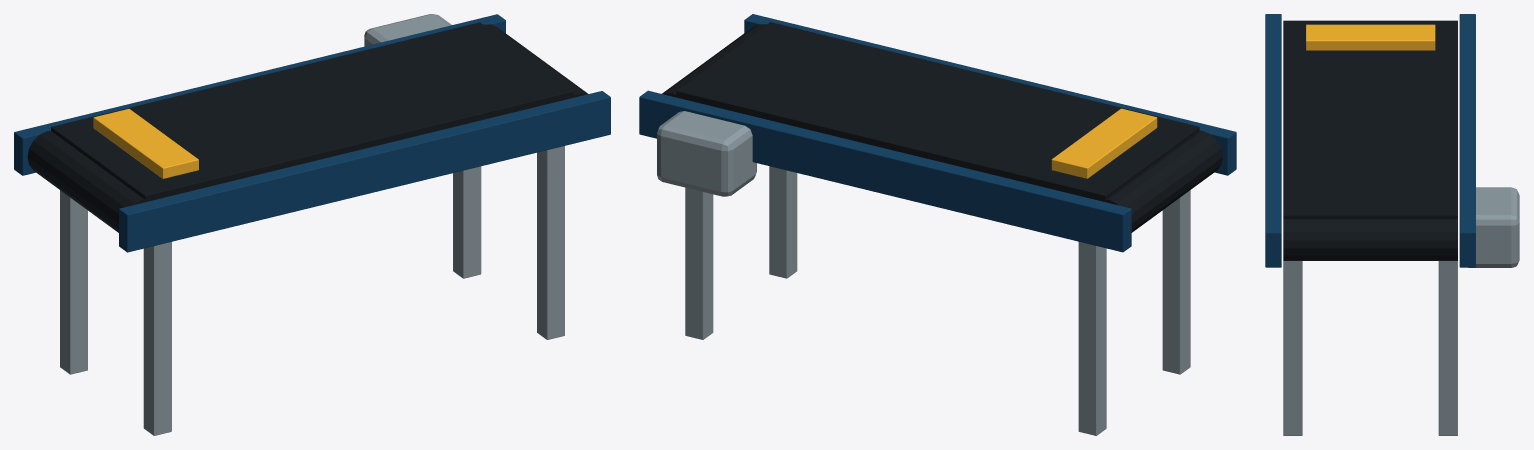
3 views of the same model, side by side, from view 1: azimuth 30°, elevation 25°; view 2: azimuth 150°, elevation 25°; view 3: azimuth 270°, elevation 25° (orthographic). The views are drawn at different scales.
Visible parts, largest first — view 1: BELT_Upper, FRAME_Rail, LEG, LEG.002, ROLLER_End, LEG.001, BELT_Carrier, FRAME_Rail.001, LEG.003, DRIVE_Motor, ROLLER_End.001; view 2: BELT_Upper, FRAME_Rail.001, DRIVE_Motor, LEG.001, LEG, ROLLER_End, LEG.003, BELT_Carrier, FRAME_Rail, LEG.002, ROLLER_End.001; view 3: BELT_Upper, ROLLER_End.001, FRAME_Rail, FRAME_Rail.001, DRIVE_Motor, BELT_Carrier, LEG.002, LEG.003, ROLLER_End.
Part boxes in pixels (x1,y1,x2,y2): BELT_Upper: [51, 22, 573, 201]; FRAME_Rail: [119, 91, 610, 252]; LEG: [143, 242, 171, 435]; LEG.002: [537, 146, 564, 339]; ROLLER_End: [27, 130, 149, 232]; LEG.001: [60, 190, 87, 374]; BELT_Carrier: [93, 109, 198, 178]; FRAME_Rail.001: [14, 14, 505, 175]; LEG.003: [453, 166, 481, 278]; DRIVE_Motor: [364, 14, 451, 46]; ROLLER_End.001: [483, 24, 588, 98]; BELT_Upper: [676, 22, 1199, 201]; FRAME_Rail.001: [639, 90, 1131, 252]; DRIVE_Motor: [657, 111, 756, 196]; LEG.001: [1078, 242, 1106, 435]; LEG: [1162, 190, 1190, 374]; ROLLER_End: [1099, 130, 1222, 232]; LEG.003: [685, 187, 713, 339]; BELT_Carrier: [1051, 108, 1157, 178]; FRAME_Rail: [744, 14, 1236, 175]; LEG.002: [769, 166, 797, 278]; ROLLER_End.001: [662, 24, 766, 97]; BELT_Upper: [1283, 21, 1457, 218]; ROLLER_End.001: [1283, 219, 1457, 260]; FRAME_Rail: [1265, 14, 1281, 267]; FRAME_Rail.001: [1459, 14, 1475, 267]; DRIVE_Motor: [1468, 187, 1519, 267]; BELT_Carrier: [1306, 24, 1435, 50]; LEG.002: [1283, 261, 1302, 435]; LEG.003: [1438, 261, 1457, 435]; ROLLER_End: [1283, 20, 1457, 21].
Bounding box in the file's own units: 1.6 × 0.8025 × 0.785.
